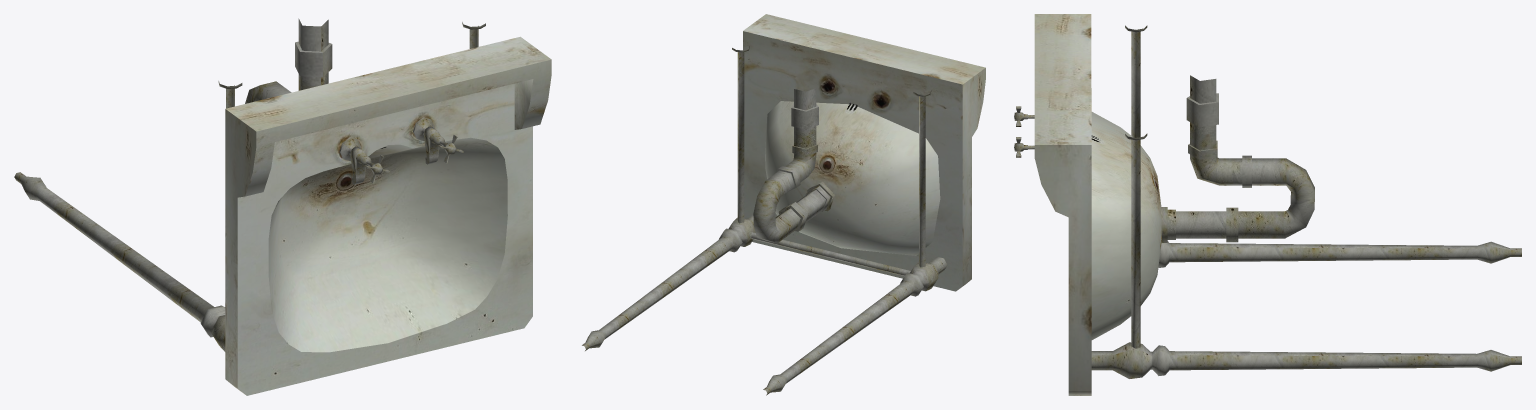
The model's file is furniture_french_sink1.glb.
3 views of the same model, side by side, from view 1: azimuth 30°, elevation 25°; view 2: azimuth 150°, elevation 25°; view 3: azimuth 270°, elevation 25° (orthographic). The views are drawn at different scales.
Size of the model in its own units: 25.18 by 23.32 by 41.24.
Materials: 2 (2 with a texture image).
